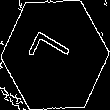L_SE: (29, 29, 81, 81)
